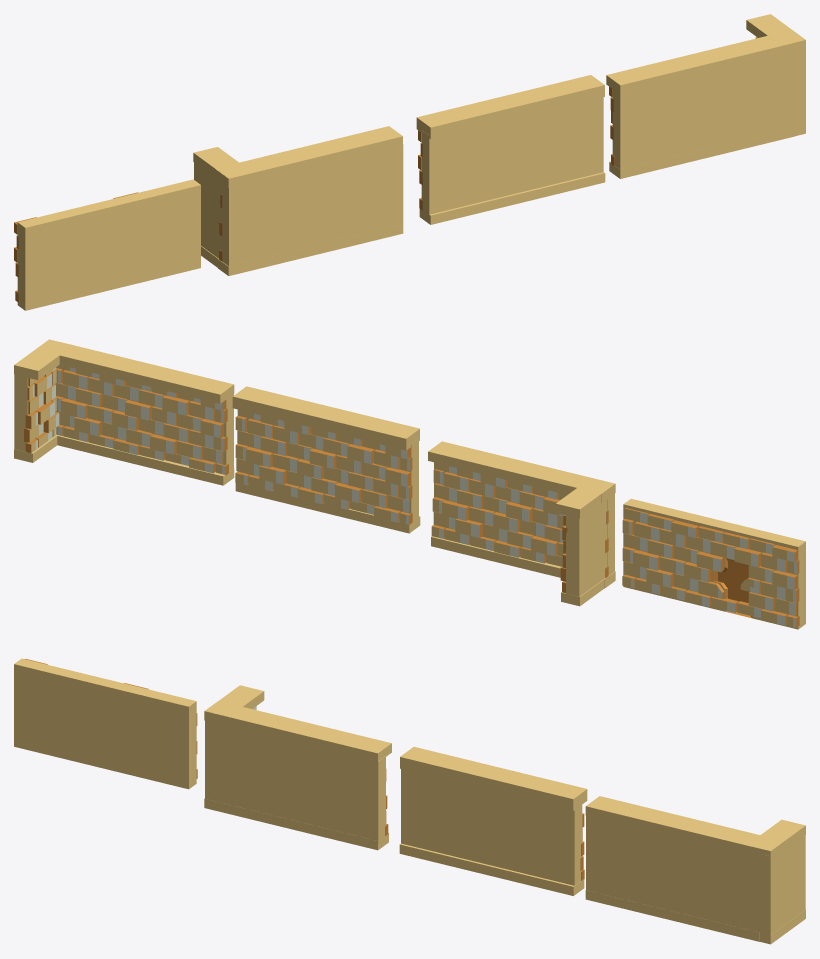
File: murs_set_04.fbx
The picture shows the model from 3 angles, top to bottom: view 1: azimuth 30°, elevation 25°; view 2: azimuth 150°, elevation 25°; view 3: azimuth 330°, elevation 25°; orthographic projection.
Parts seen in each view (by area): view 1: murs_coin_jaune_clair_02, murs_coin_jaune_clair_01, murs_simple_jaune_clair, murs_brise_jaune_clair; view 2: murs_coin_jaune_clair_01, murs_coin_jaune_clair_02, murs_simple_jaune_clair, murs_brise_jaune_clair; view 3: murs_coin_jaune_clair_01, murs_coin_jaune_clair_02, murs_simple_jaune_clair, murs_brise_jaune_clair.
Part boxes in pixels (x1,y1,x2,y2): murs_coin_jaune_clair_02: (193,126,403,275); murs_coin_jaune_clair_01: (606,14,805,178); murs_simple_jaune_clair: (416,75,605,224); murs_brise_jaune_clair: (14,179,200,310); murs_coin_jaune_clair_01: (14,339,234,485); murs_coin_jaune_clair_02: (428,441,615,606); murs_simple_jaune_clair: (232,386,420,533); murs_brise_jaune_clair: (622,498,805,629); murs_coin_jaune_clair_01: (585,796,805,944); murs_coin_jaune_clair_02: (204,685,391,850); murs_simple_jaune_clair: (399,747,587,895); murs_brise_jaune_clair: (14,658,197,789).
Bounding box in the file's own units: 127 × 16.1 × 11.39.
1 material, 1 textured.
